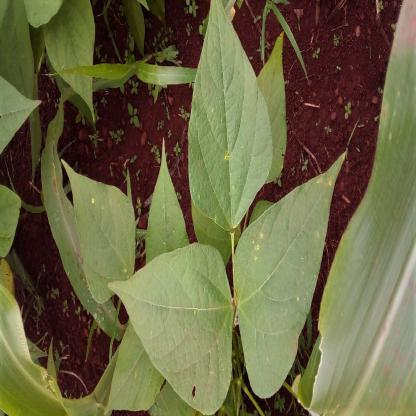Beans_Rust: (240, 158, 345, 400), (184, 0, 273, 236), (60, 157, 142, 301)
